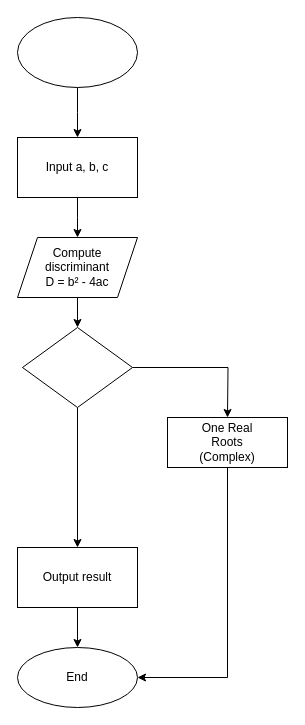
This 305x725 diagram has some shape labels left out. The shapes that lost their labels are listed below. From the top down, each one's box as (x1, y1, x2, y2) in pixels, then its label:
(16, 16, 138, 88): Start
(22, 326, 132, 408): D > 0
